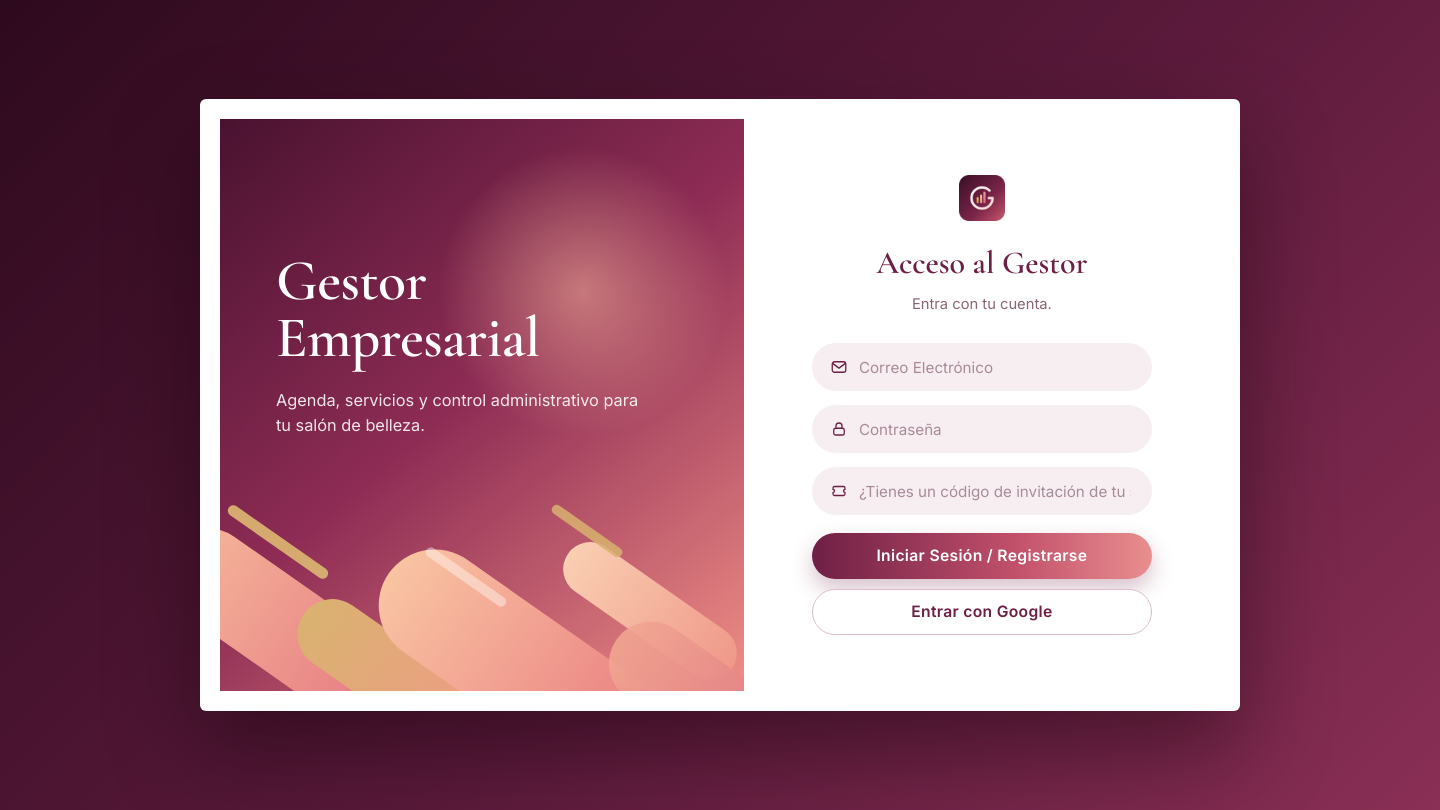
AuthScreen › muestra el error de autenticación devuelto por la acción
The width and height of the screenshot is (1440, 810).
Type "ana@test.com" into the field labelled "Correo Electrónico" at (982, 367), box 812,343 -> 1152,391
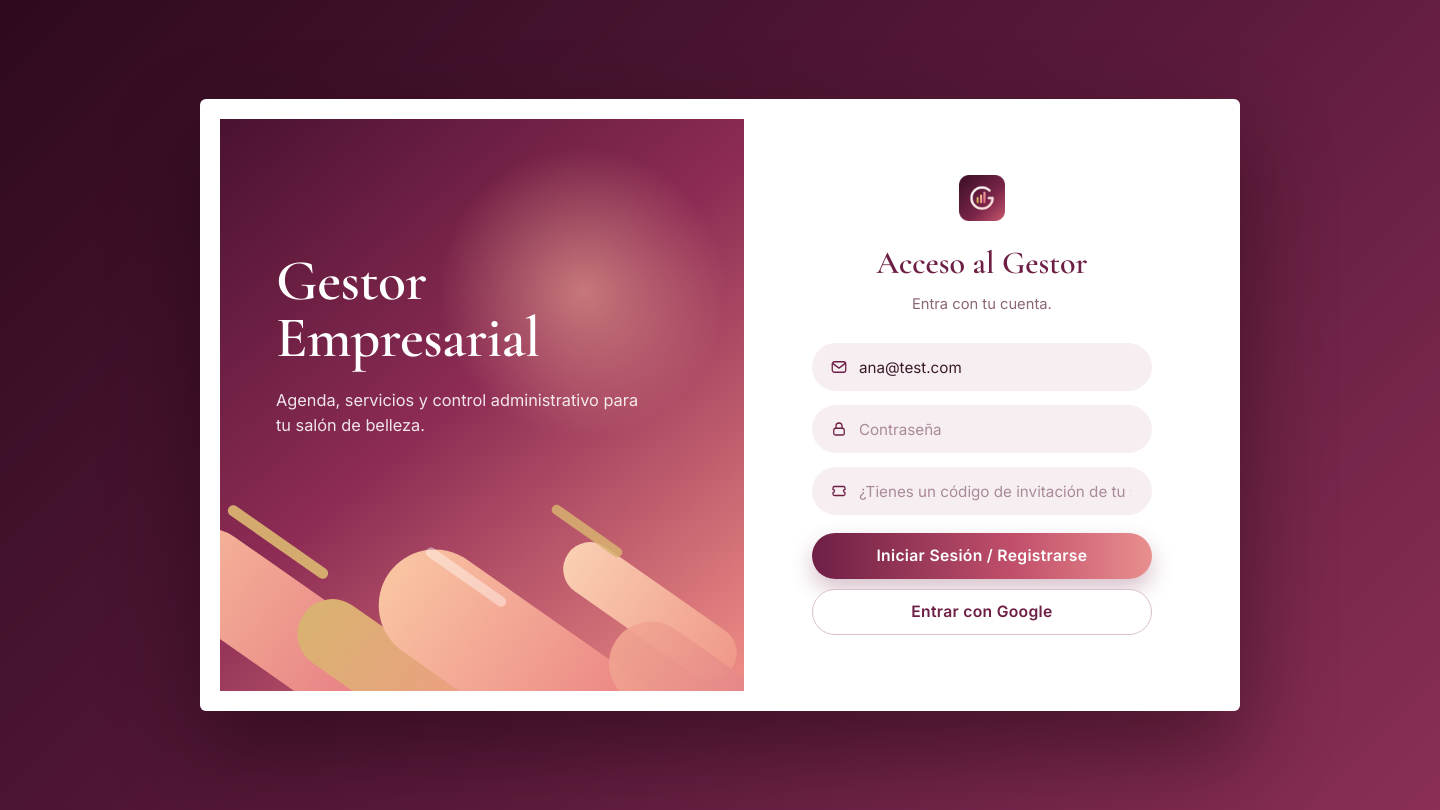
Type "secret123" into the password field labelled "Contraseña" at (982, 429), box 812,405 -> 1152,453
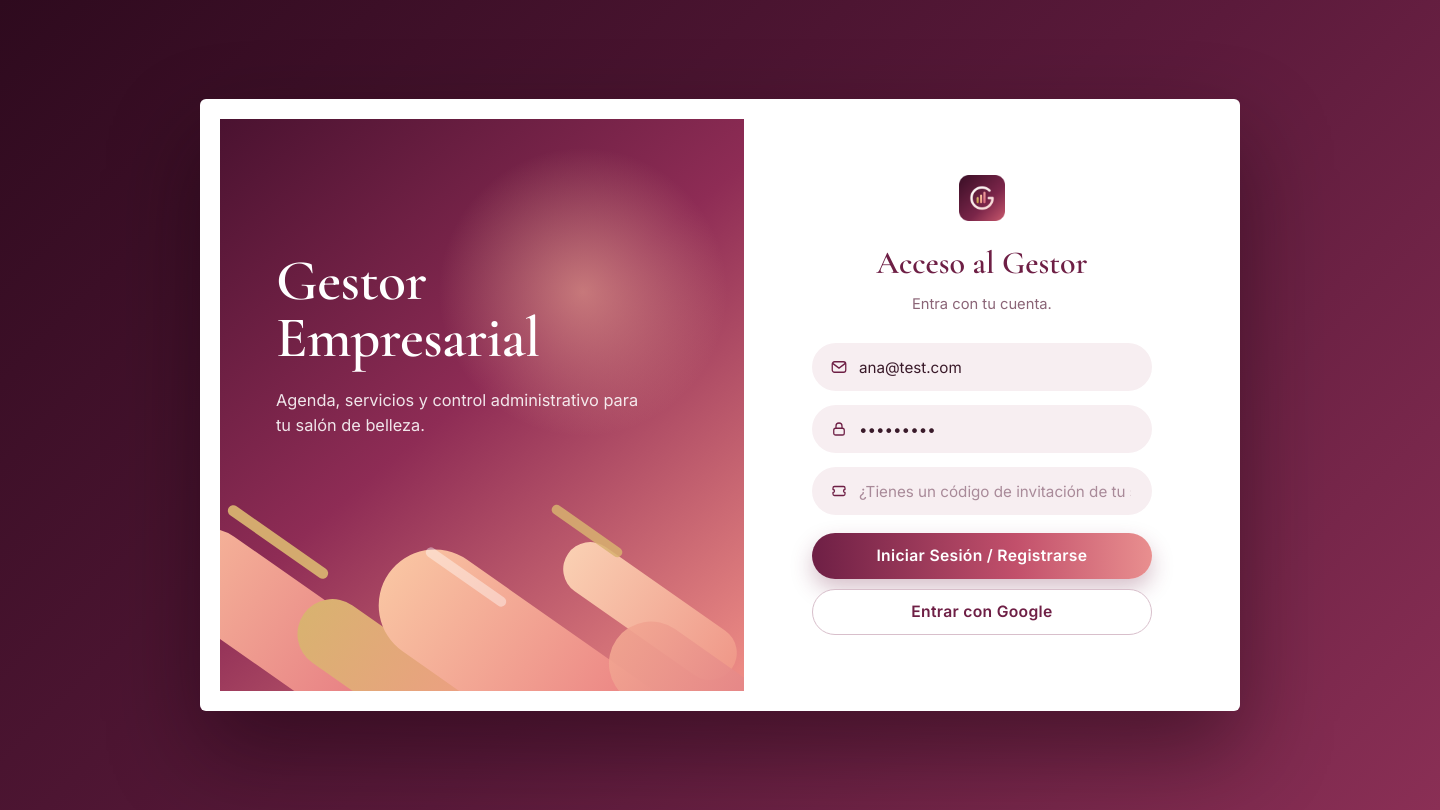
Click the button "Iniciar Sesión / Registrarse" at (982, 556), box 812,533 -> 1152,579
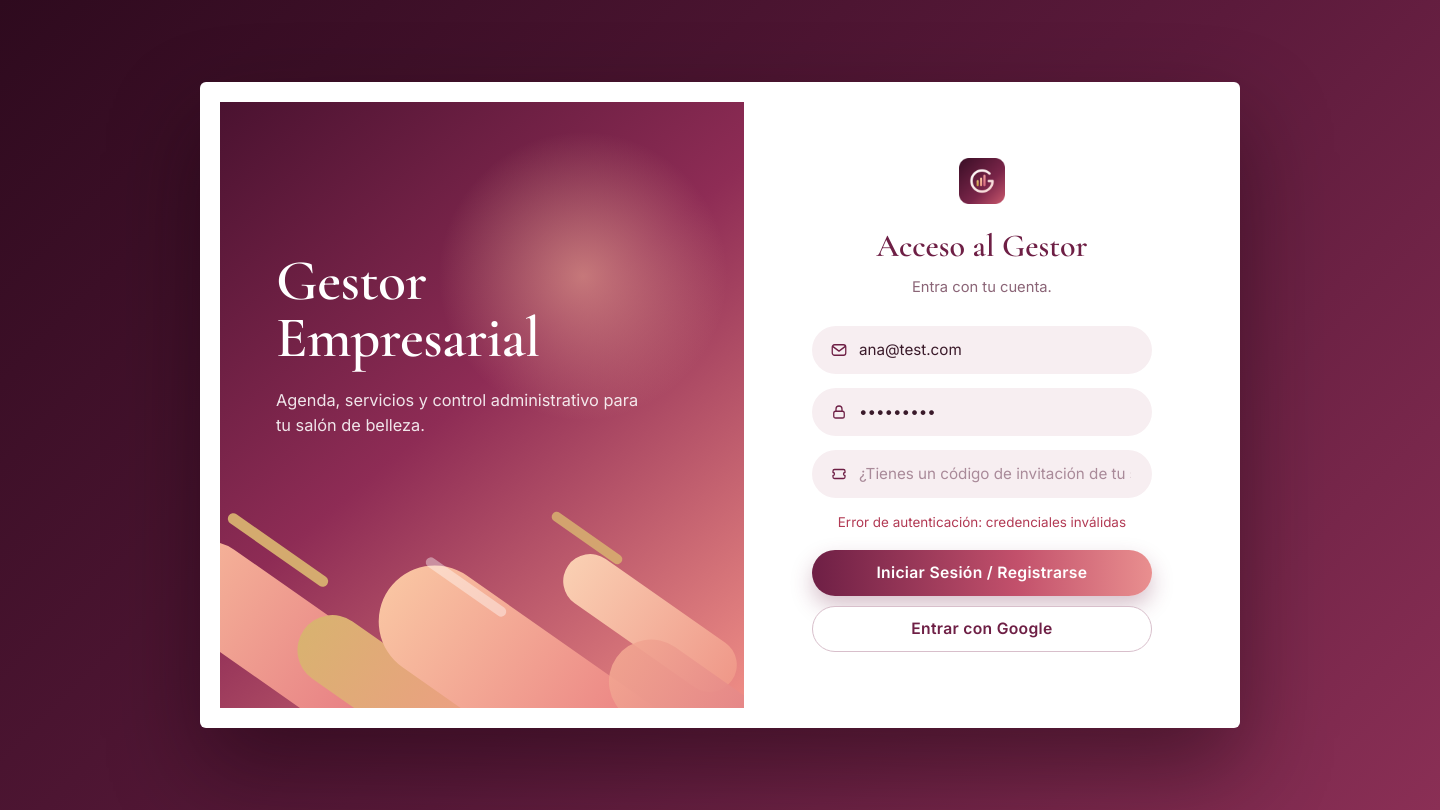
Expected: the message reads "Error de autenticación: credenciales inválidas", 838,514 -> 1126,530
